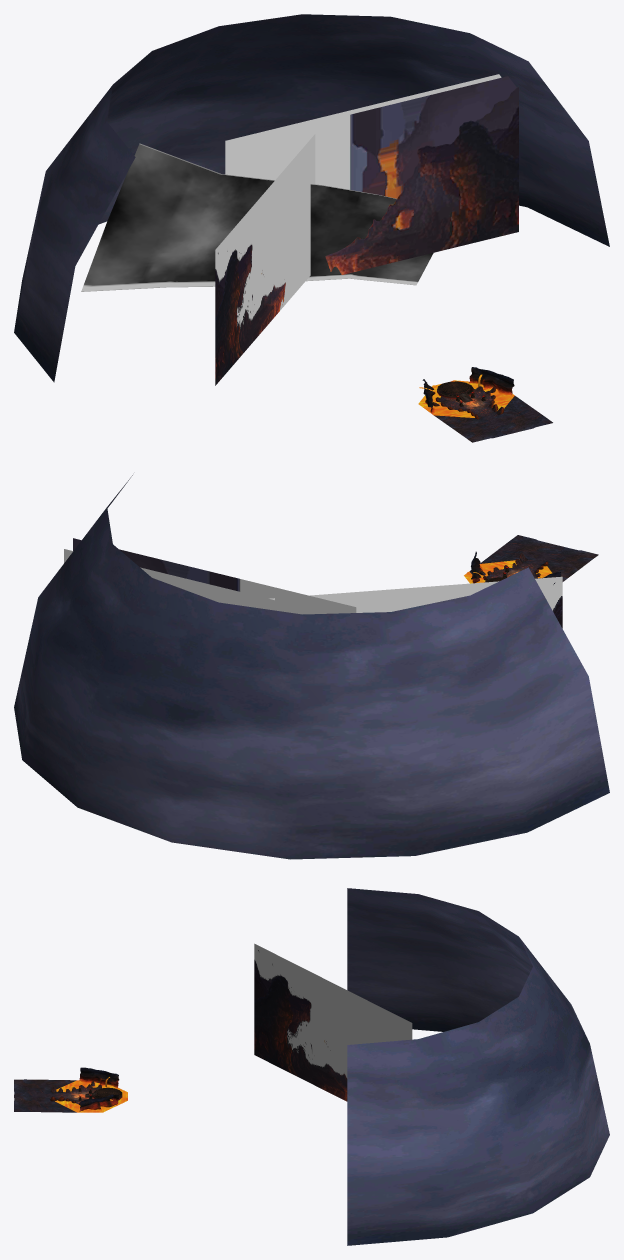
Rendered from map_kazan_05.dae.
3 views of the same model, one above another, from view 1: azimuth 30°, elevation 25°; view 2: azimuth 150°, elevation 25°; view 3: azimuth 270°, elevation 25° (orthographic). The views are drawn at different scales.
Visible parts, largest first — view 1: map_kazan_05.012, map_kazan_05.009, map_kazan_05.004, map_kazan_05.005, map_kazan_05.008, map_kazan_05.014, map_kazan_05.006, map_kazan_05.013, map_kazan_05.003; view 2: map_kazan_05.012, map_kazan_05.008, map_kazan_05.005, map_kazan_05.014, map_kazan_05.006; view 3: map_kazan_05.012, map_kazan_05.008, map_kazan_05.014, map_kazan_05.013, map_kazan_05.003.
Boxes of the visible parts, x1,y1,x2,y2 form: map_kazan_05.012: (14,14,609,382); map_kazan_05.009: (81,143,433,291); map_kazan_05.004: (325,86,518,274); map_kazan_05.005: (234,76,516,198); map_kazan_05.008: (215,134,315,385); map_kazan_05.014: (434,389,552,442); map_kazan_05.006: (225,74,501,175); map_kazan_05.013: (422,367,514,414); map_kazan_05.003: (418,380,514,417); map_kazan_05.012: (14,475,609,859); map_kazan_05.008: (269,576,562,628); map_kazan_05.005: (73,538,356,613); map_kazan_05.014: (480,535,598,581); map_kazan_05.006: (64,549,328,614); map_kazan_05.012: (347,888,609,1245); map_kazan_05.008: (254,943,412,1101); map_kazan_05.014: (14,1079,100,1112); map_kazan_05.013: (79,1067,119,1111); map_kazan_05.003: (55,1080,127,1112).
Size of the model in its own units: 471 by 535 by 185.
17 materials, 17 textured.
